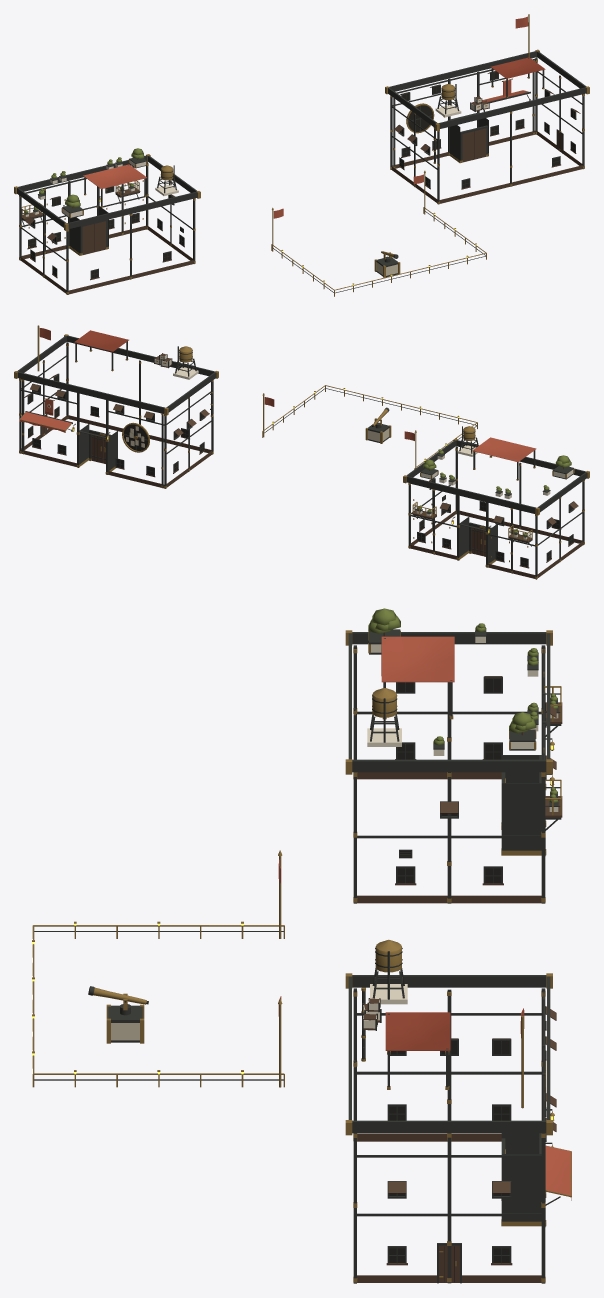
The model's file is upper_set.glb.
The picture shows the model from 3 angles, top to bottom: view 1: azimuth 30°, elevation 25°; view 2: azimuth 150°, elevation 25°; view 3: azimuth 270°, elevation 25°; orthographic projection. The views are drawn at different scales.
Visible parts, largest first — view 1: upper_set; view 2: upper_set; view 3: upper_set.
Boxes of the visible parts, <box> form: upper_set: <box>14,14,589,296</box>; upper_set: <box>14,325,589,579</box>; upper_set: <box>32,608,571,1283</box>.
Size of the model in its own units: 58.26 by 13.4 by 25.83.
